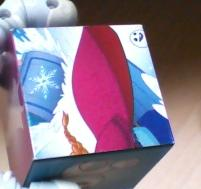Red1: (11, 23, 174, 159)
